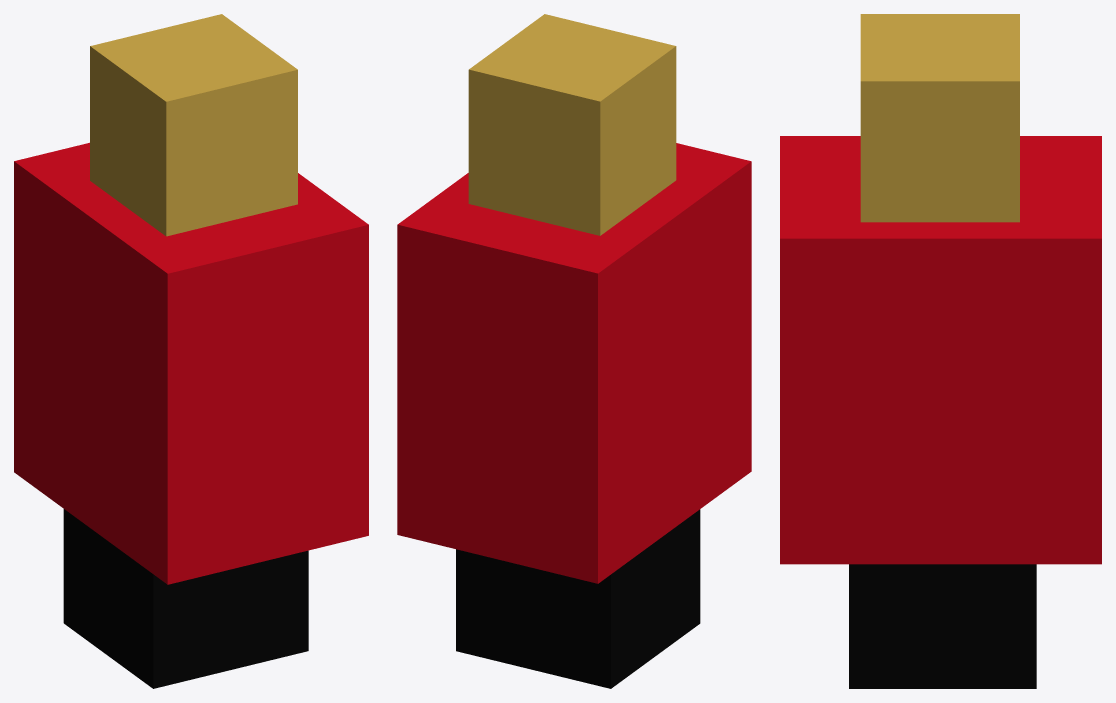
Rendered from citizen10.fbx.
The picture shows the model from 3 angles, left to right: view 1: azimuth 30°, elevation 25°; view 2: azimuth 150°, elevation 25°; view 3: azimuth 270°, elevation 25°; orthographic projection. The views are drawn at different scales.
Parts seen in each view (by area): view 1: Cube; view 2: Cube; view 3: Cube.
Boxes of the visible parts, x1,y1,x2,y2 form: Cube: (14, 14, 368, 688); Cube: (397, 14, 751, 688); Cube: (780, 14, 1101, 688).
Bounding box in the file's own units: 79.59 × 219 × 105.
